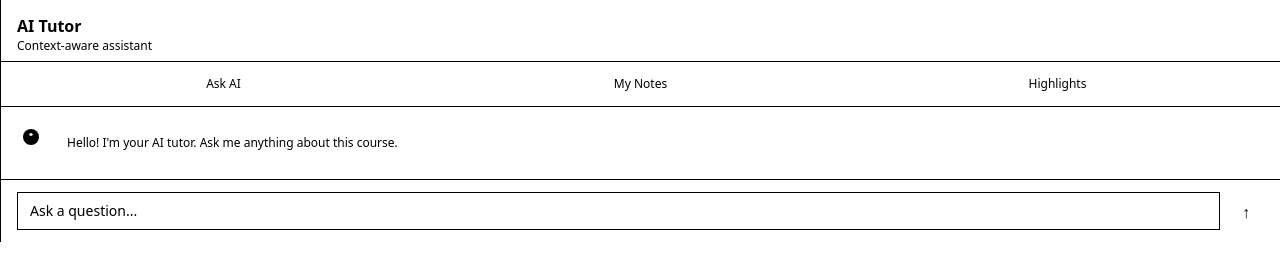
Test: AITutorPanel › Notes tab shows empty state
This screenshot has width=1280, height=259.
Click the tab "My Notes": (640, 84) left=434, top=70, right=847, bottom=98
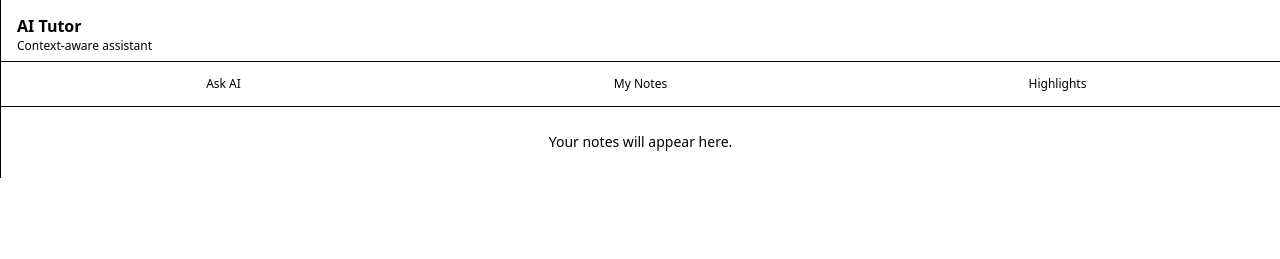
Result: the text "Your notes will appear here." is shown at left=549, top=132, right=732, bottom=151
